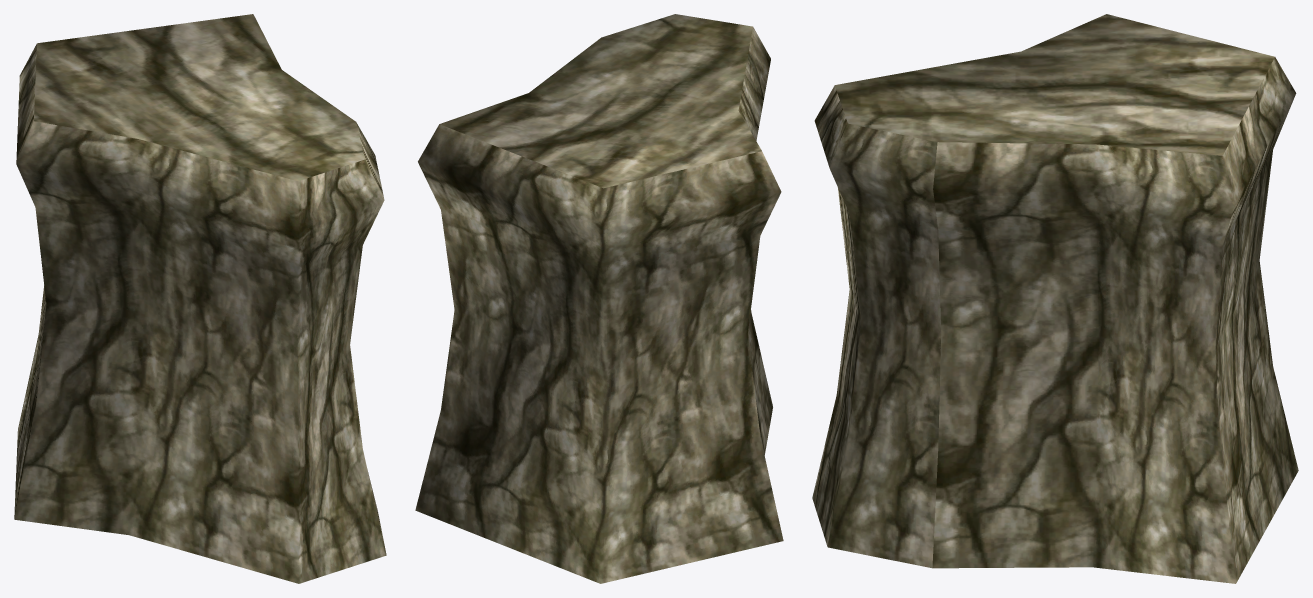
File: CB_NEWPLAYSURFACE_CB_PLAYSURFACE03.fbx
The picture shows the model from 3 angles, left to right: view 1: azimuth 30°, elevation 25°; view 2: azimuth 150°, elevation 25°; view 3: azimuth 270°, elevation 25°; orthographic projection. The views are drawn at different scales.
Visible parts, largest first — view 1: CB_NEWPLAYSURFACE_CB_PLAYSURFACE03; view 2: CB_NEWPLAYSURFACE_CB_PLAYSURFACE03; view 3: CB_NEWPLAYSURFACE_CB_PLAYSURFACE03.
Boxes of the visible parts, left/top/right/bottom form: CB_NEWPLAYSURFACE_CB_PLAYSURFACE03: left=14, top=14, right=386, bottom=583; CB_NEWPLAYSURFACE_CB_PLAYSURFACE03: left=415, top=14, right=783, bottom=583; CB_NEWPLAYSURFACE_CB_PLAYSURFACE03: left=812, top=14, right=1298, bottom=583.
Size of the model in its own units: 56175 by 67435 by 71008.
Materials: 2 (2 with a texture image).
